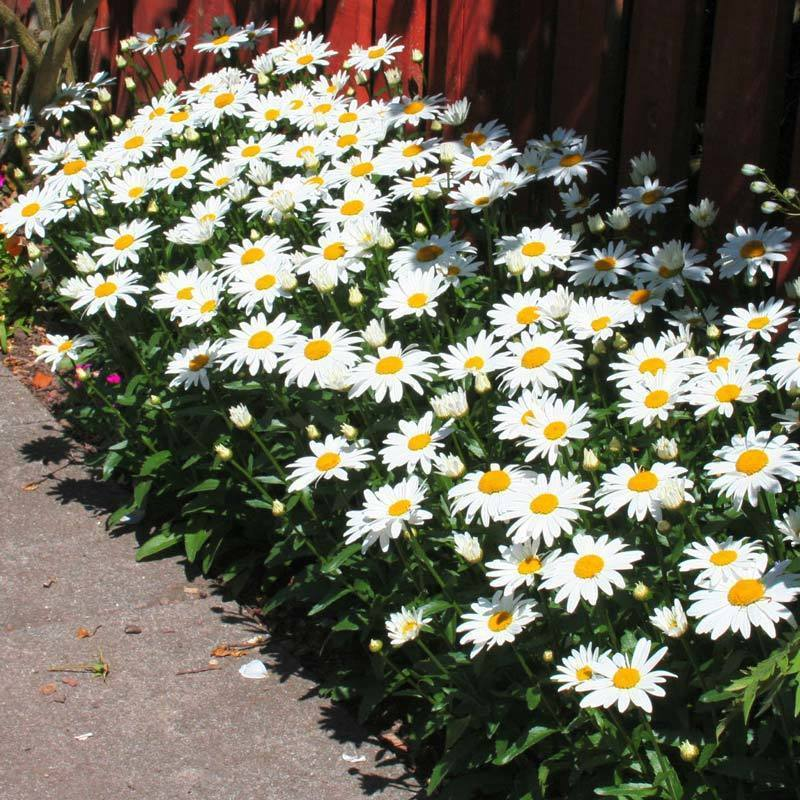papatya: (120, 85, 639, 481)
